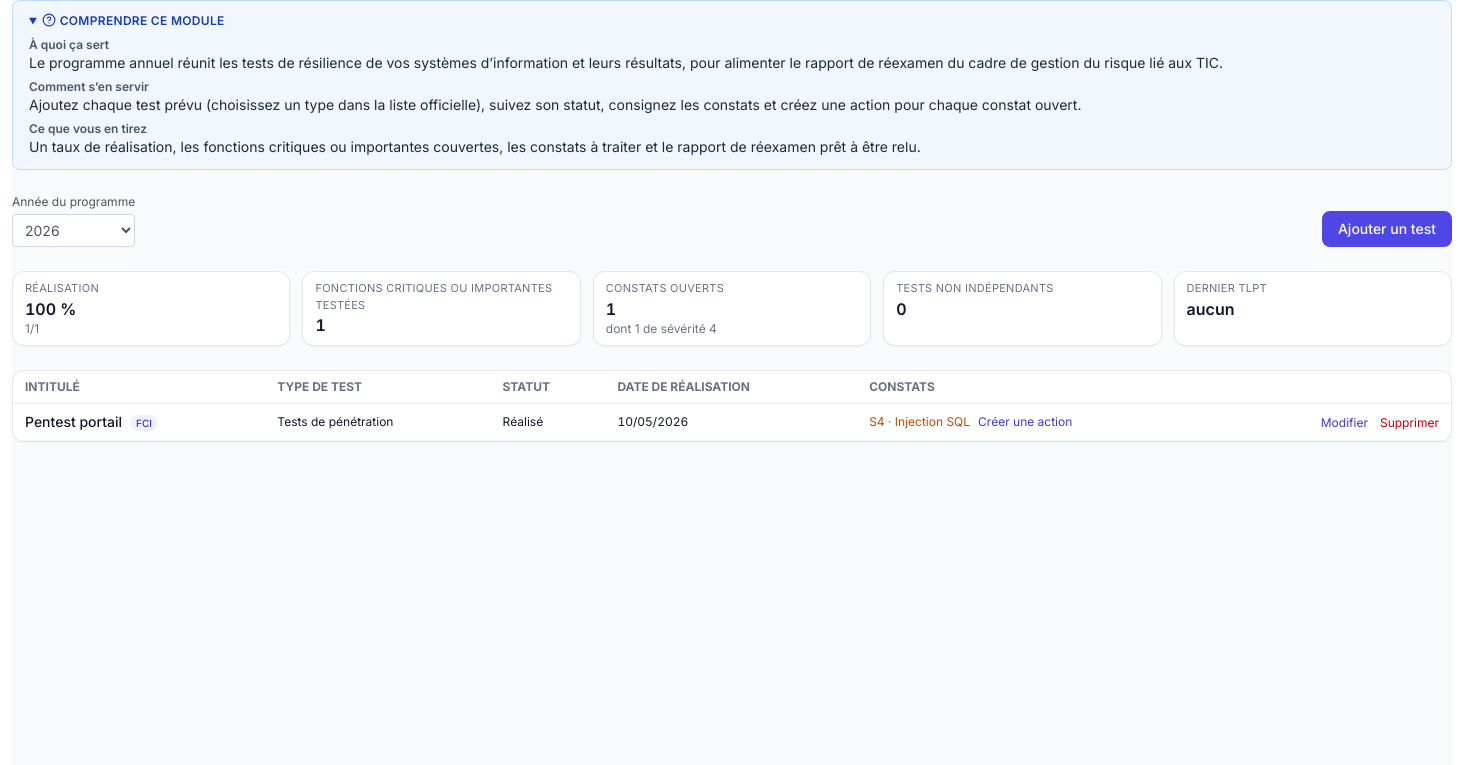
Scenario: TestsResilienceManager › un exemple de test préremplit le formulaire (type officiel, périmètre, fonction critique)
Expected: the text "À quoi ça sert" is shown, x1=29 y1=37 x2=109 y2=52
Click the button "Ajouter un test". click: (1387, 229)
box: x1=1322 y1=211 x2=1452 y2=247
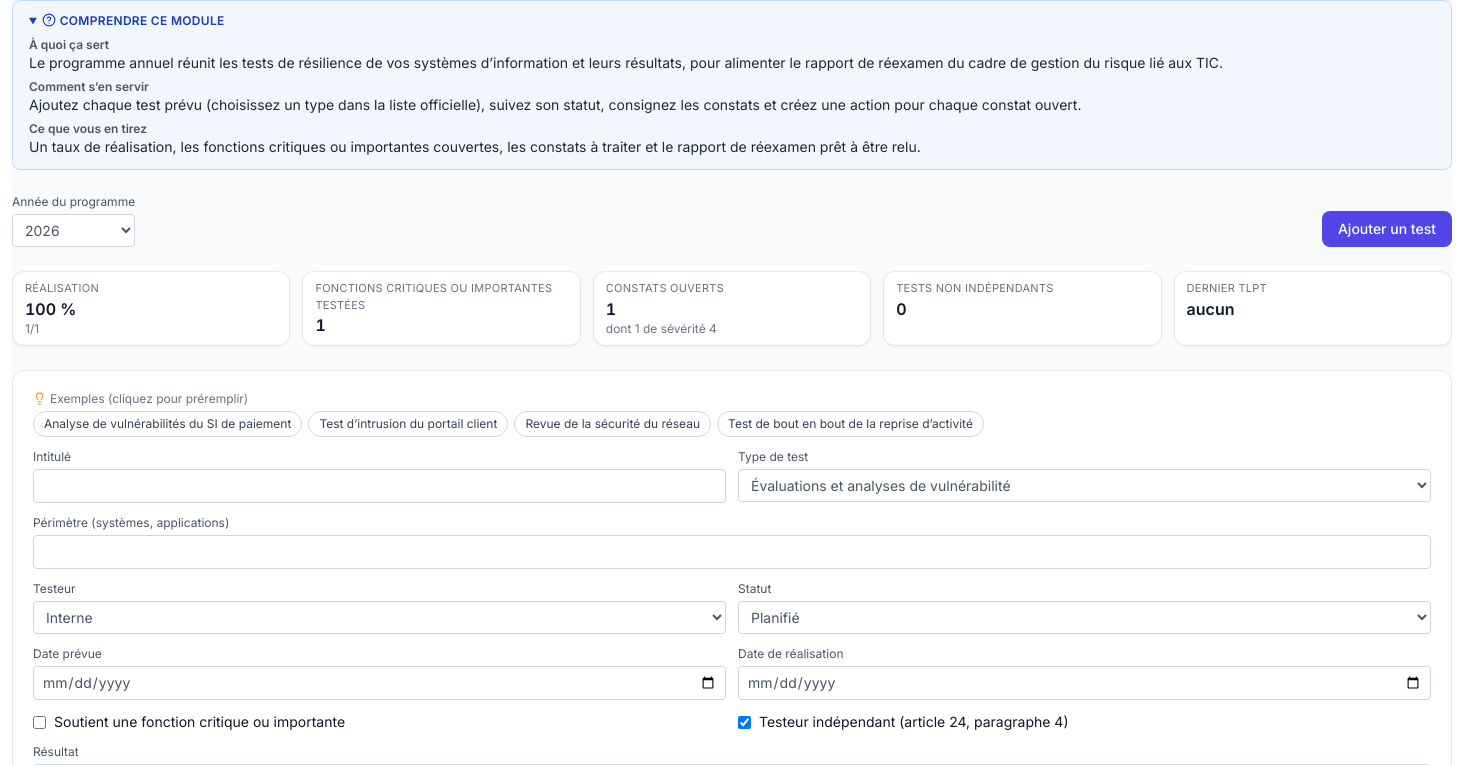
Click the button "Analyse de vulnérabilités du SI de paiement". click: (168, 424)
box: x1=33 y1=411 x2=302 y2=437
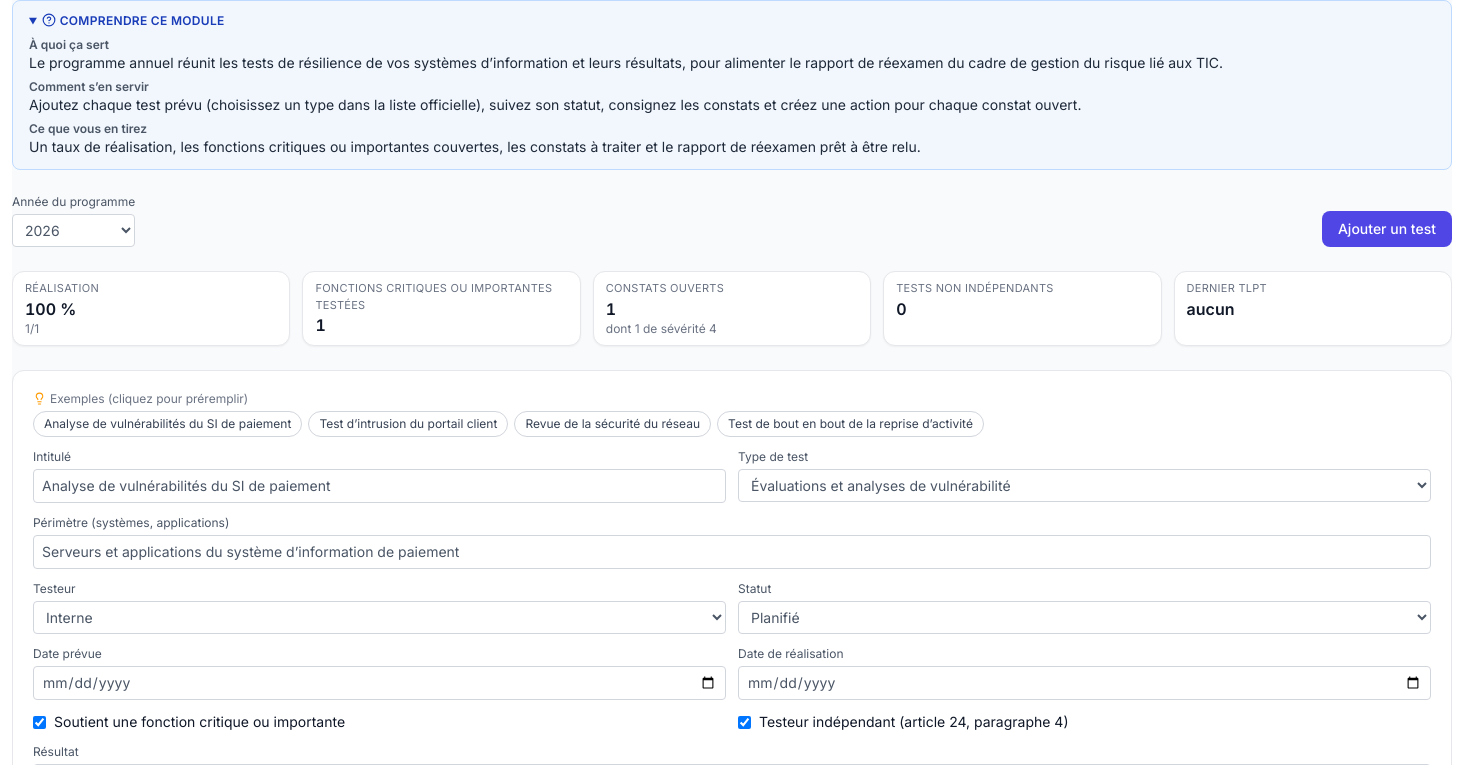
Now the dropdown labelled "Type de test" shows "Évaluations et analyses de vulnérabilité", box x1=738 y1=469 x2=1431 y2=502
Now the field labelled "Intitulé" holds "Analyse de vulnérabilités du SI de paiement", box x1=33 y1=469 x2=726 y2=503
Now the checkbox labelled "Soutient une fonction critique ou importante" is checked, box x1=33 y1=716 x2=46 y2=729
